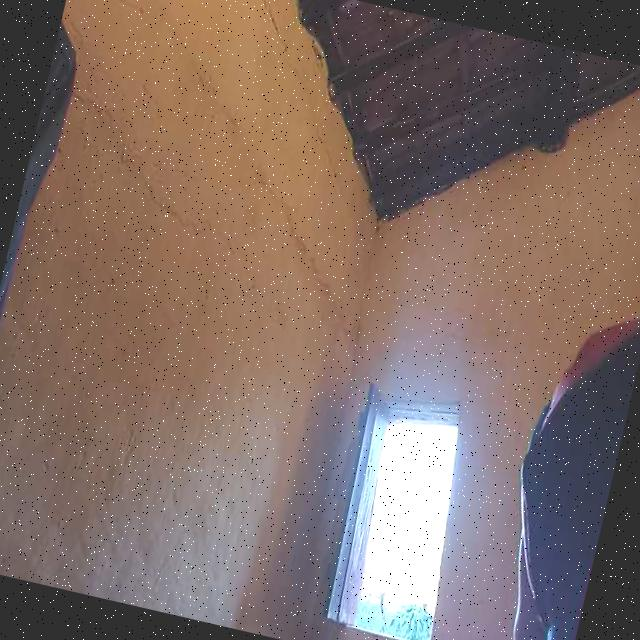colete: (537, 291, 640, 444)
pessoa: (470, 405, 623, 640)
